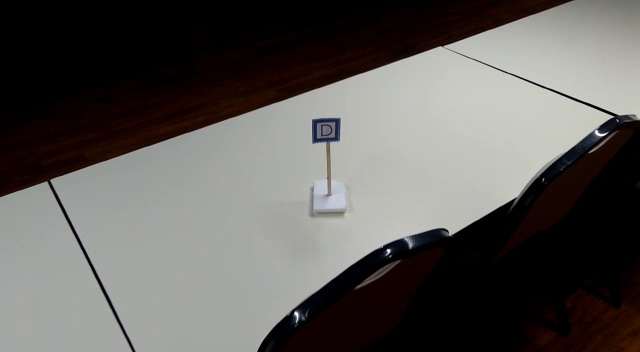durak: (312, 117, 340, 141)
